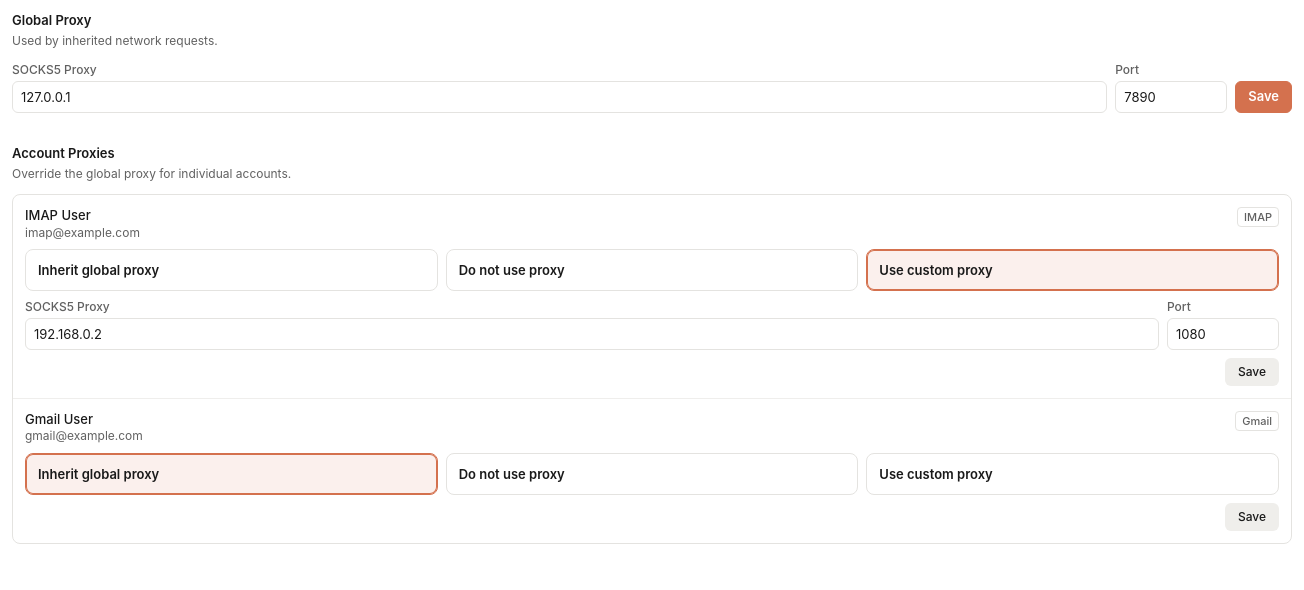
Test: ProxyTab global proxy › shows a friendly global validation error without sending an out-of-range u16
Type "70000" into the 1st number field labelled "Port" at [1171, 97], box [1115,81,1227,113]
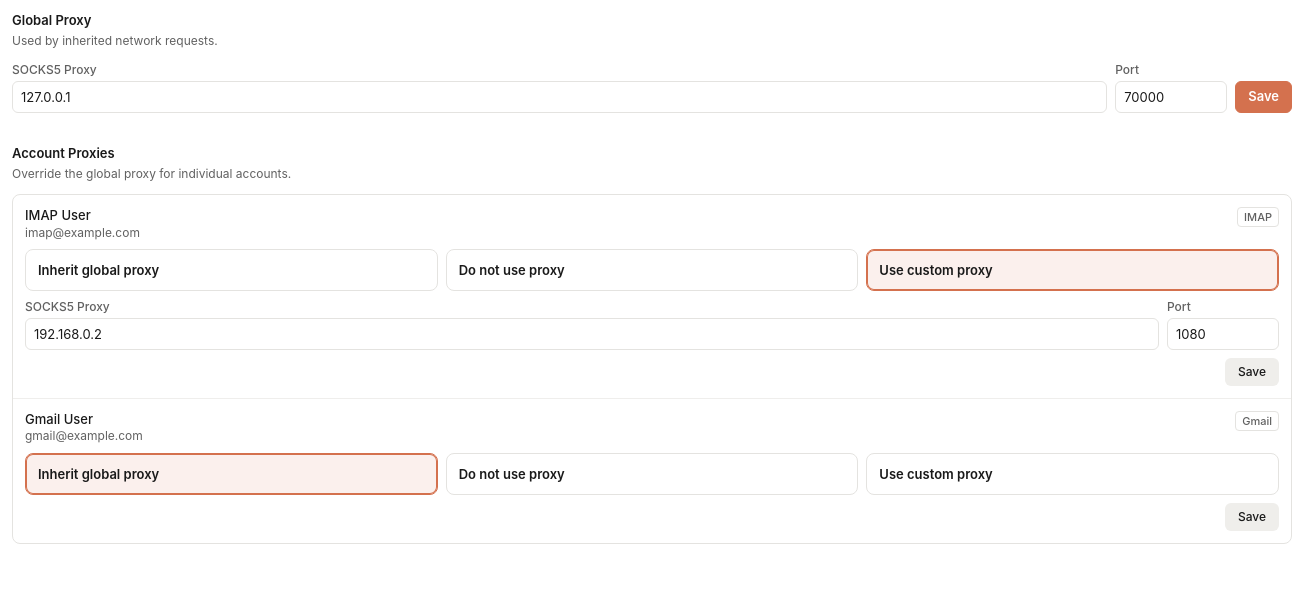
Click the 1st button "Save" at [1264, 97], box [1235,81,1292,113]
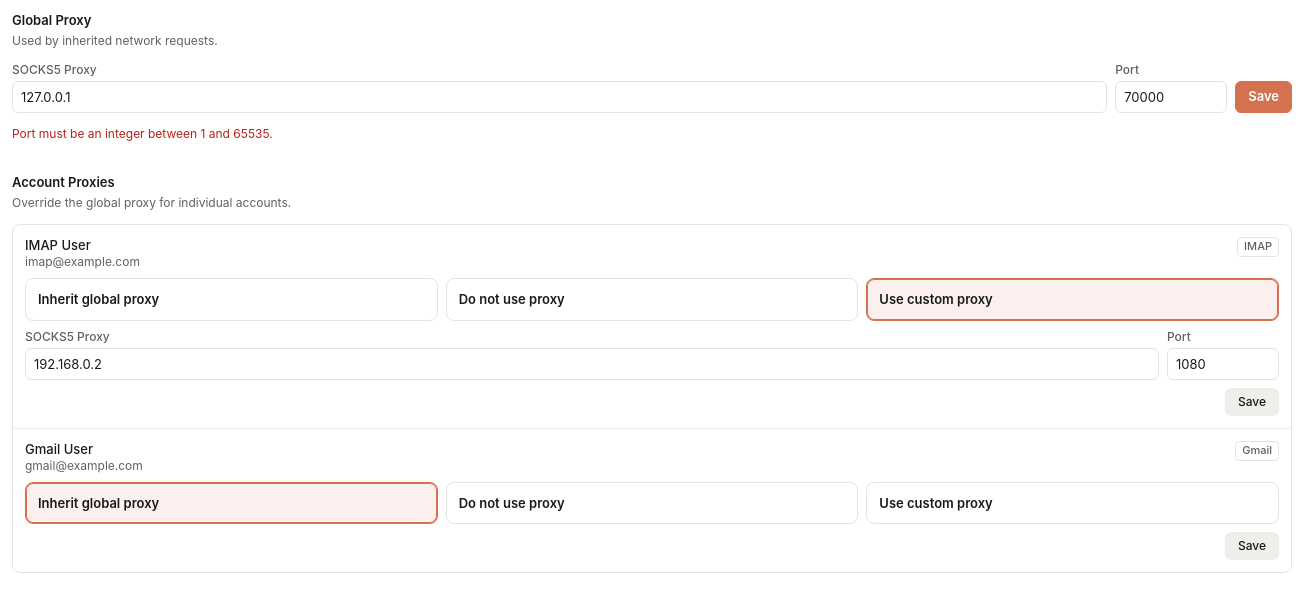
Check: the text "Port must be an integer between 1 and 65535." is shown, box [12,126,273,141]
